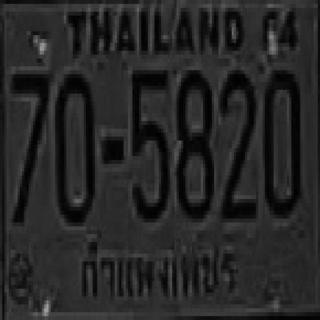N00: (53, 70, 93, 222), (262, 66, 299, 215)
N02: (220, 68, 255, 217)
N05: (130, 66, 168, 219)
N07: (11, 70, 48, 222)
N08: (174, 66, 212, 219)
P16: (76, 236, 238, 307)
